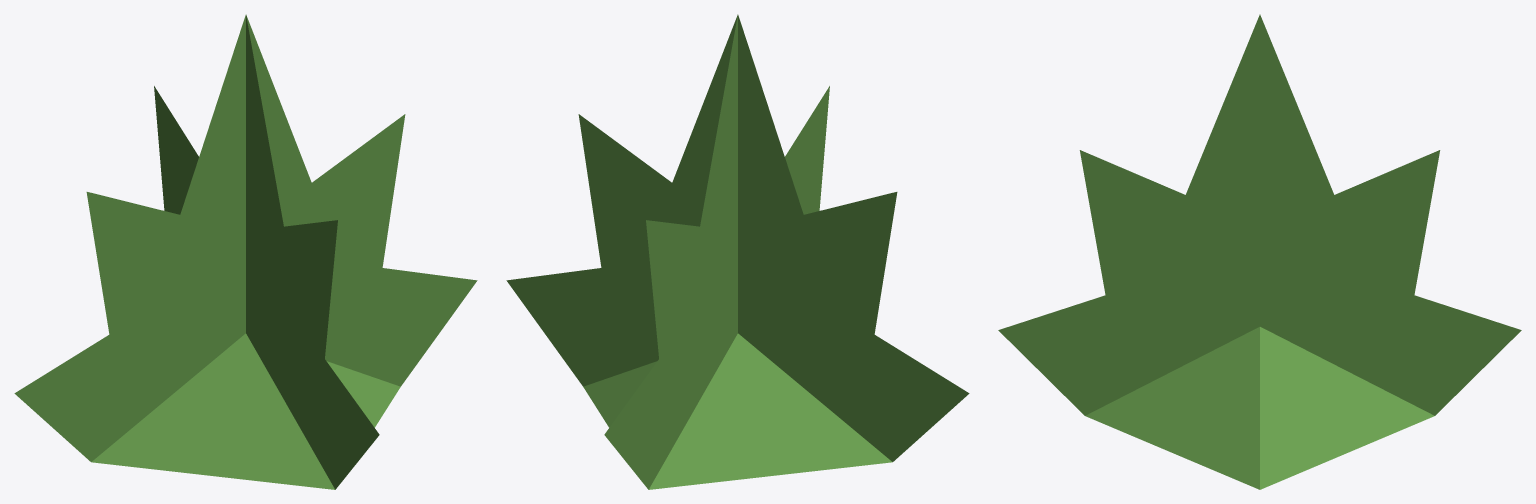
The model's file is reed-1.glb.
3 views of the same model, side by side, from view 1: azimuth 30°, elevation 25°; view 2: azimuth 150°, elevation 25°; view 3: azimuth 270°, elevation 25° (orthographic). The views are drawn at different scales.
Parts seen in each view (by area): view 1: plant_flatShort; view 2: plant_flatShort; view 3: plant_flatShort.
Boxes of the visible parts, box(x1,y1,x2,y2) form: plant_flatShort: box(14, 14, 477, 489); plant_flatShort: box(506, 14, 969, 489); plant_flatShort: box(998, 14, 1521, 489).
Size of the model in its own units: 1 by 0.85 by 1.
